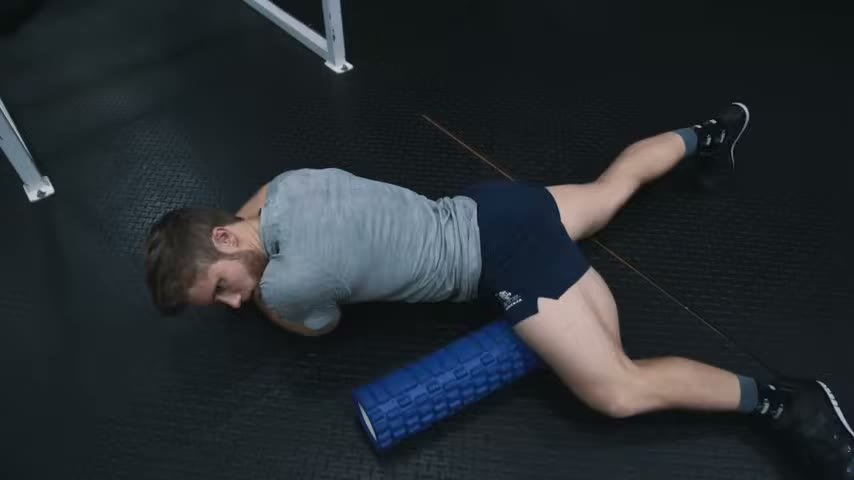barbell_plate_side: (133, 149, 272, 333)
